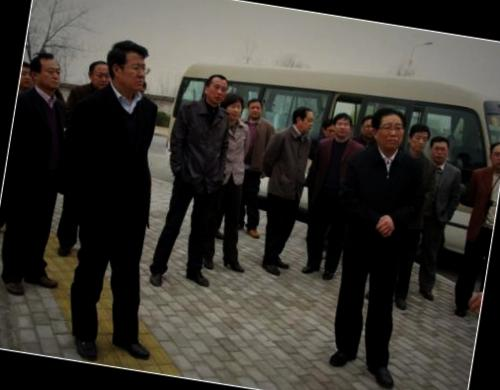no_helmet: (103, 36, 154, 98), (368, 102, 410, 154), (28, 46, 66, 96), (200, 70, 231, 108), (404, 120, 434, 158), (84, 57, 114, 94), (425, 132, 455, 168), (220, 91, 248, 127), (290, 102, 318, 134), (484, 135, 500, 182), (331, 110, 353, 142), (358, 114, 381, 142), (318, 116, 338, 142), (246, 96, 267, 120)
